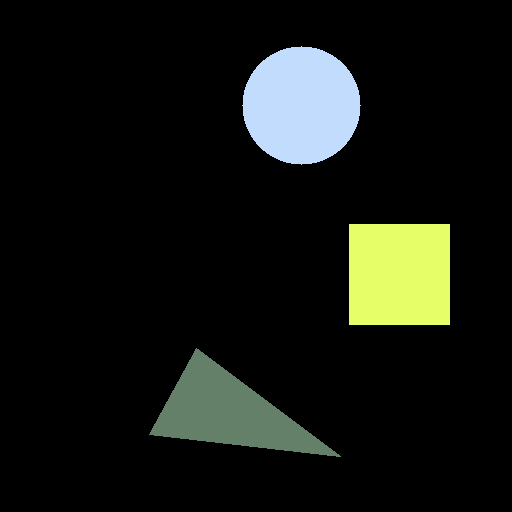circle: (242, 46, 360, 164)
square: (349, 224, 449, 324)
triangle: (149, 348, 340, 456)
